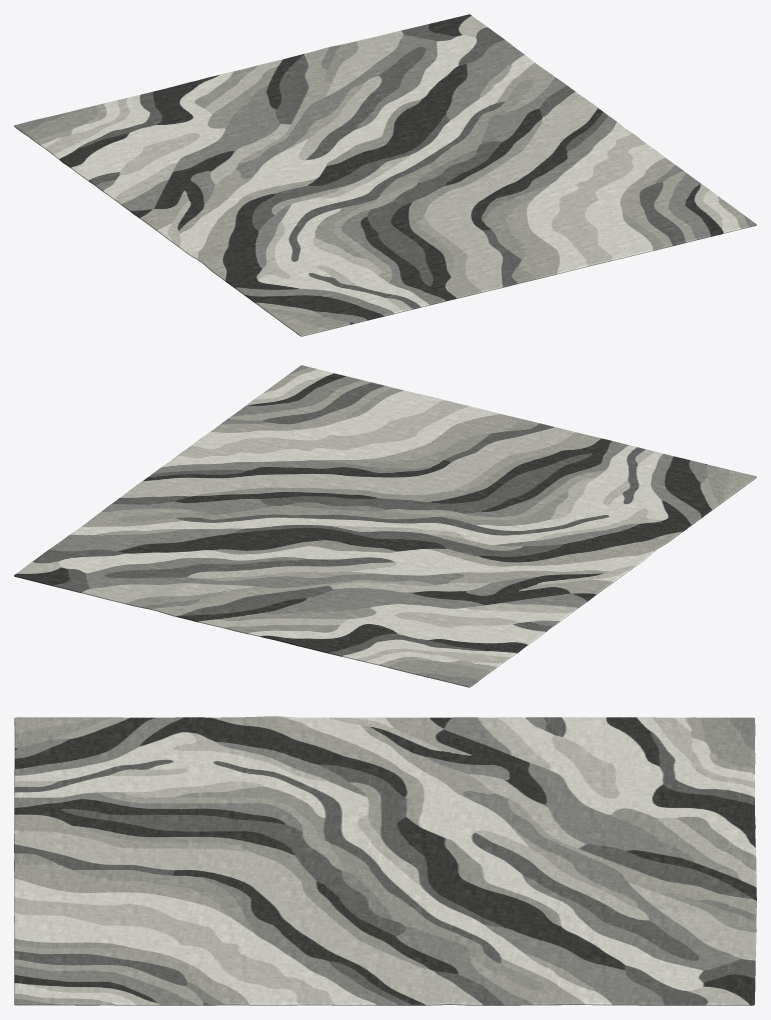
File: marbleA.gltf
3 renders of one model, top to bottom at view 1: azimuth 30°, elevation 25°; view 2: azimuth 150°, elevation 25°; view 3: azimuth 270°, elevation 25°, orthographic. The views are drawn at different scales.
Parts seen in each view (by area): view 1: zenobia; view 2: zenobia; view 3: zenobia.
Boxes of the visible parts, left/top/right/bottom form: zenobia: left=14, top=14, right=756, bottom=336; zenobia: left=14, top=365, right=756, bottom=687; zenobia: left=14, top=716, right=756, bottom=1005.
Size of the model in its own units: 2.2 by 0.014 by 2.41.
Materials: 1 (1 with a texture image).
